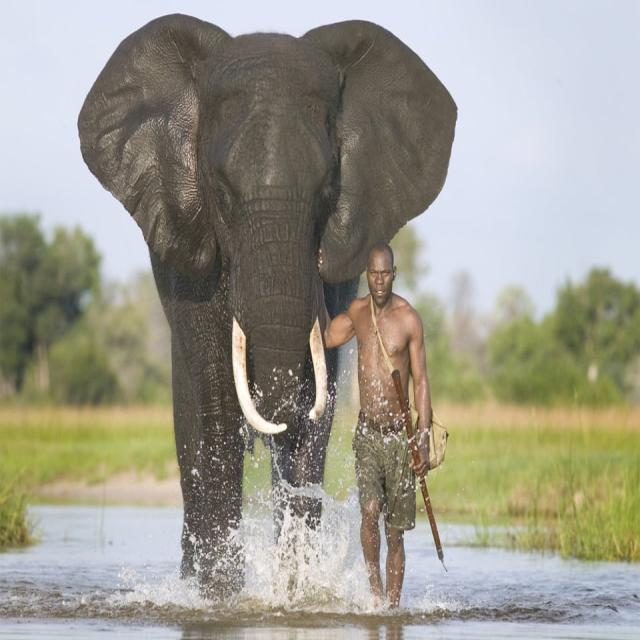Elephant: (81, 0, 454, 604)
